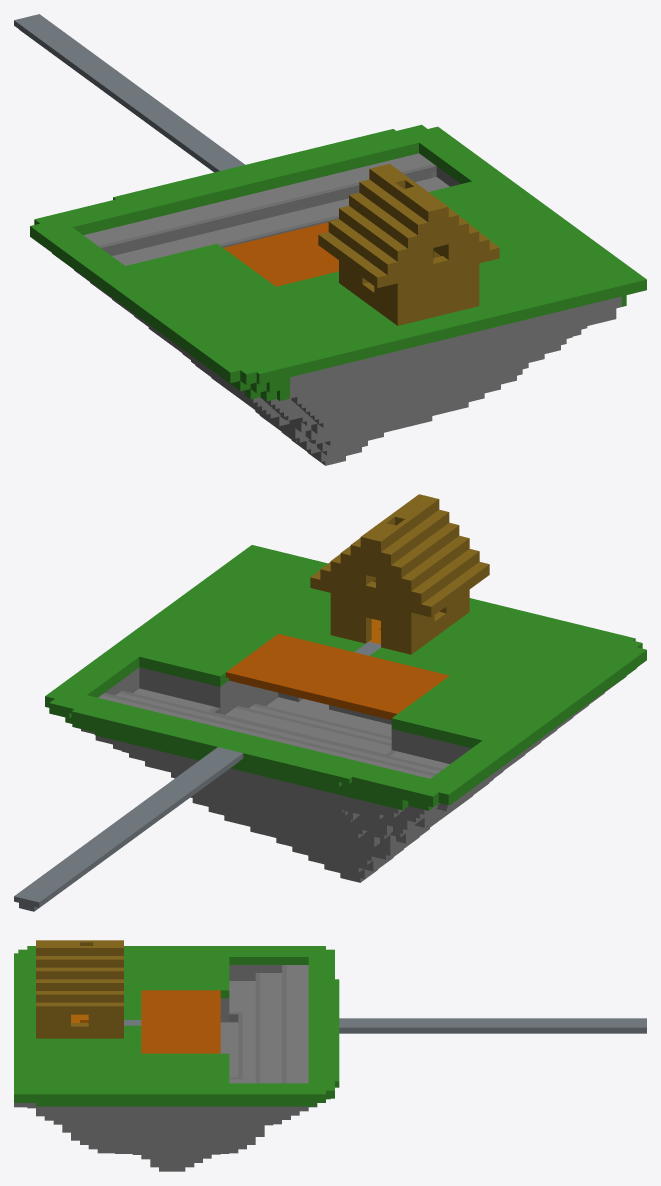
The model's file is island1-4.obj.
3 views of the same model, one above another, from view 1: azimuth 30°, elevation 25°; view 2: azimuth 150°, elevation 25°; view 3: azimuth 270°, elevation 25° (orthographic). The views are drawn at different scales.
Size of the model in its own units: 8 by 5.8 by 14.4.
1 material, 1 textured.
